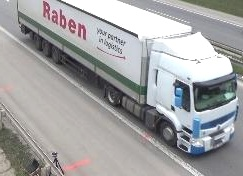truck: (18, 0, 238, 155)
